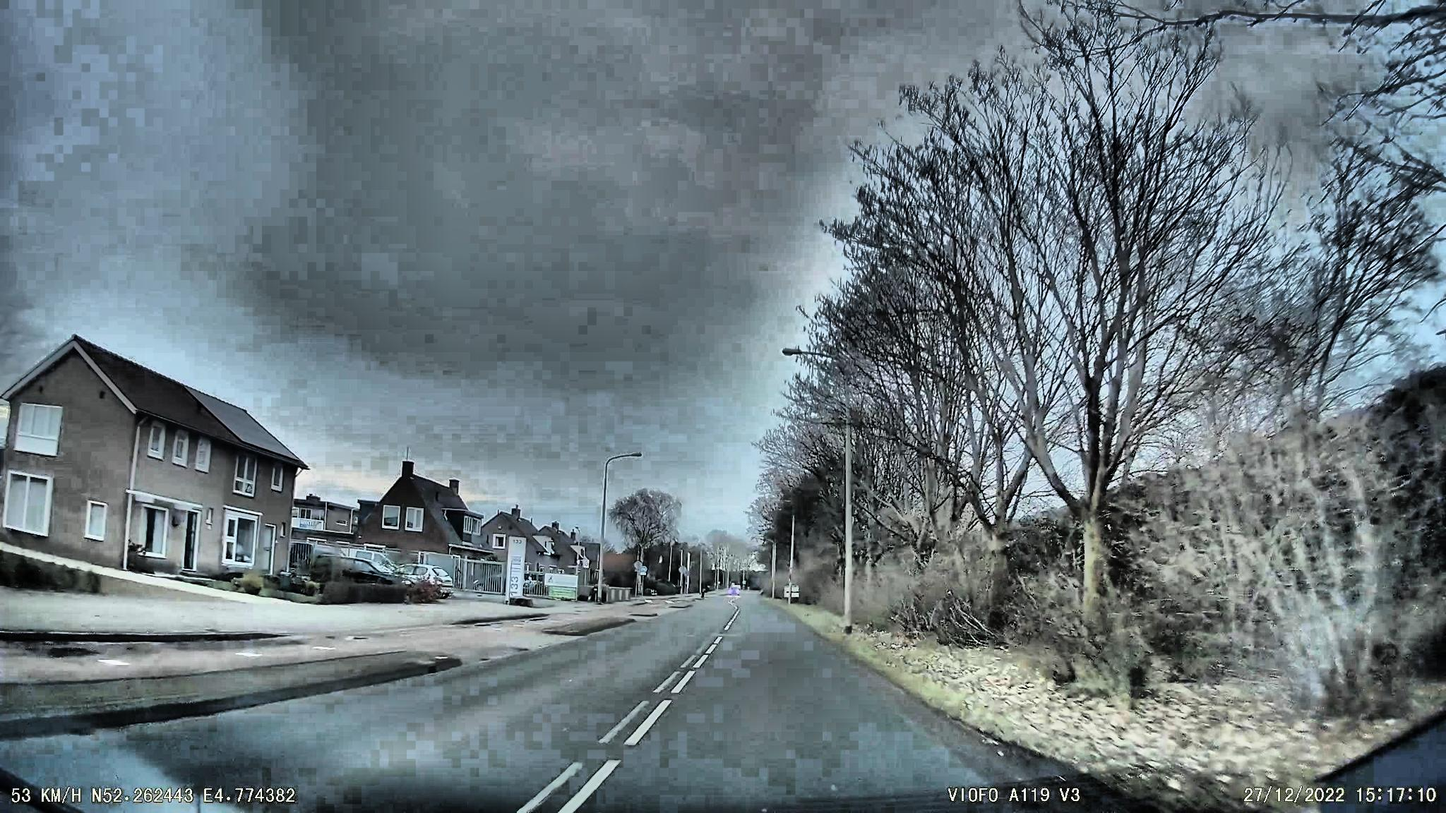Roads: (0, 592, 1152, 813)
